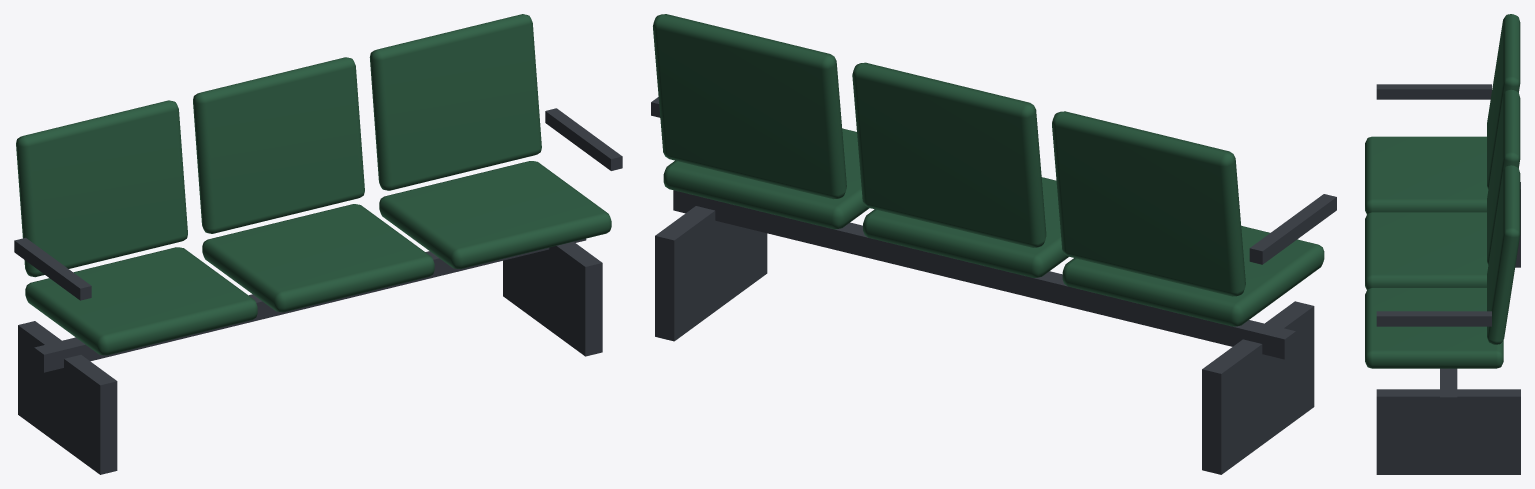
The model's file is WaitingBench.fbx.
The picture shows the model from 3 angles, left to right: view 1: azimuth 30°, elevation 25°; view 2: azimuth 150°, elevation 25°; view 3: azimuth 270°, elevation 25°; orthographic projection. The views are drawn at different scales.
Parts seen in each view (by area): view 1: WaitingBenchBody; view 2: WaitingBenchBody; view 3: WaitingBenchBody.
Boxes of the visible parts, x1,y1,x2,y2 form: WaitingBenchBody: [14, 14, 622, 474]; WaitingBenchBody: [651, 14, 1336, 474]; WaitingBenchBody: [1365, 14, 1520, 474].
Size of the model in its own units: 1.9 by 0.9435 by 0.54.
